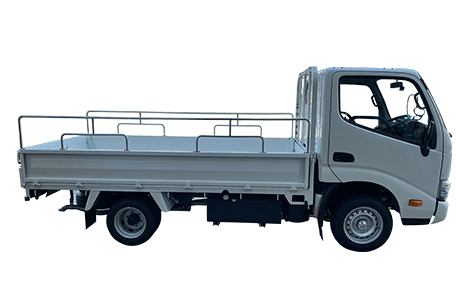truck: (18, 65, 451, 252)
